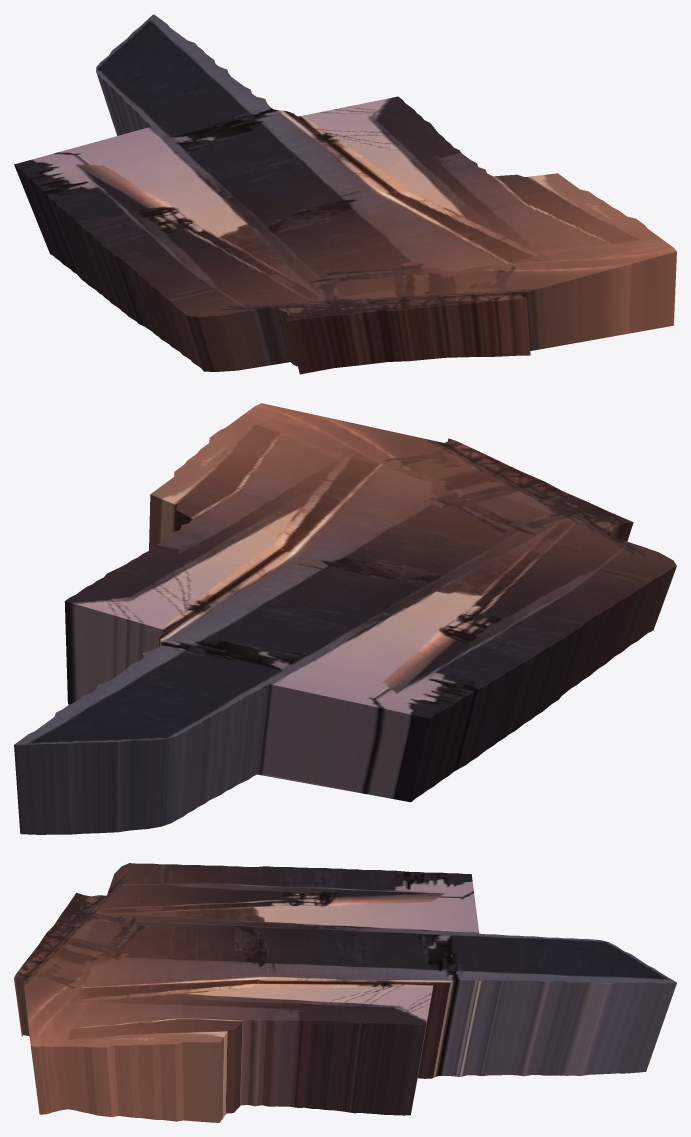
File: tower.glb
3 renders of one model, top to bottom at view 1: azimuth 30°, elevation 25°; view 2: azimuth 150°, elevation 25°; view 3: azimuth 270°, elevation 25°, orthographic. The views are drawn at different scales.
Parts seen in each view (by area): view 1: tower-hero; view 2: tower-hero; view 3: tower-hero.
Part boxes in pixels (box(x1,y1,x2,y2)): tower-hero: box(14, 14, 676, 374); tower-hero: box(14, 403, 676, 834); tower-hero: box(14, 863, 676, 1122).
Size of the model in its own units: 168 by 38.23 by 254.
1 material, 1 textured.
